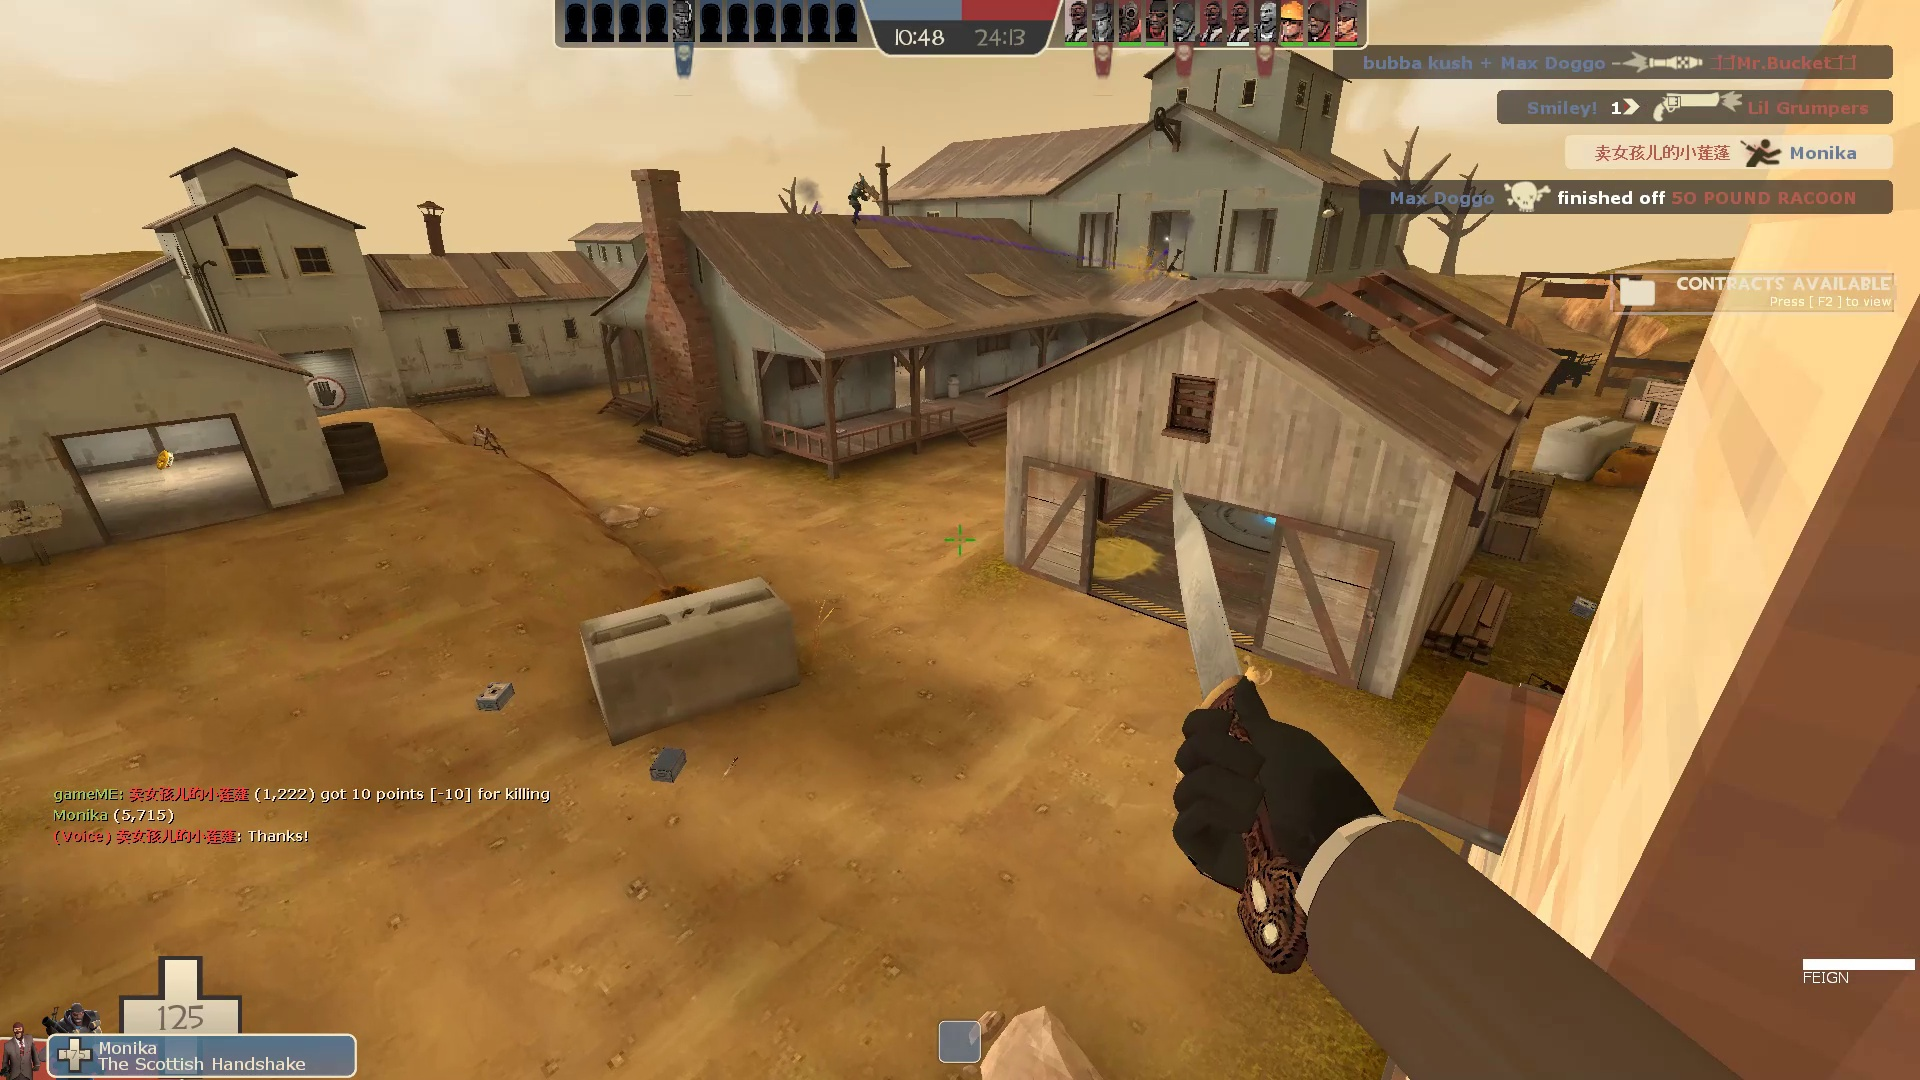blu_soldier: (843, 171, 884, 233)
